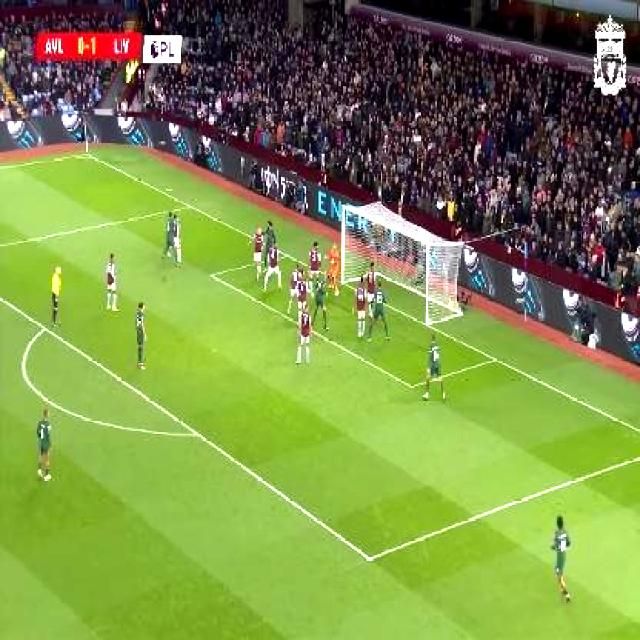bigarea_bottom_inner: (357, 542, 380, 572)
bigarea_top_outter: (181, 197, 197, 214)
bottom_arc_area_intersection: (188, 420, 206, 445)
corner: (75, 146, 94, 162)
smallarea_bottom_inner: (403, 372, 422, 398)
smallarea_bottom_outter: (485, 346, 503, 369)
smallarea_top_inner: (203, 265, 220, 283)
smallarea_top_outter: (278, 246, 292, 263)
top_arc_area_intersection: (36, 315, 52, 337)
